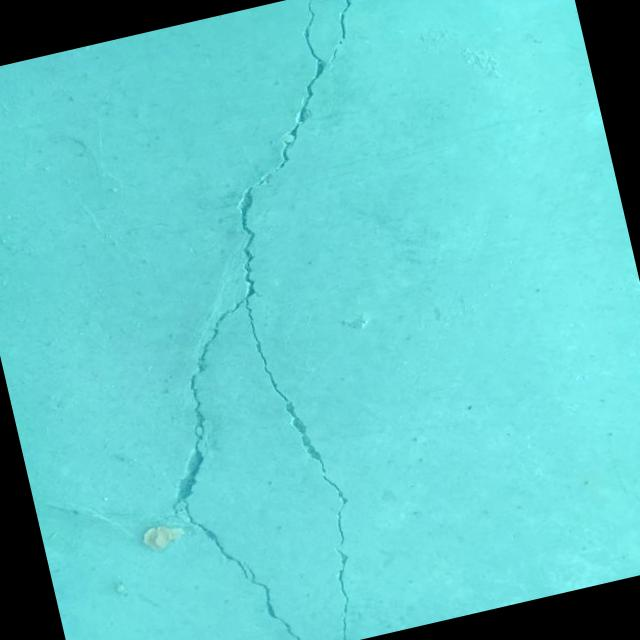crack: (67, 0, 496, 640)
